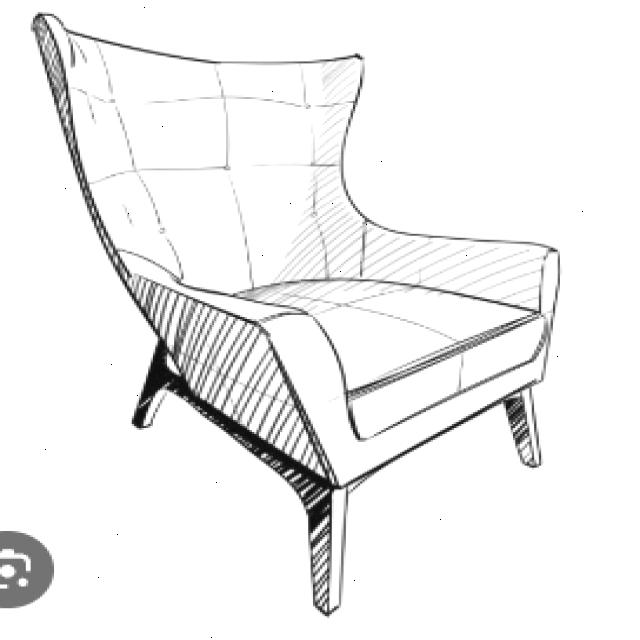Armrest: (148, 255, 381, 461), (359, 215, 579, 340)
Backrest: (72, 18, 336, 307)
Leg_Structure: (300, 495, 357, 633), (492, 384, 557, 492)
Seat: (224, 273, 548, 400)
Wing_Flange: (11, 9, 135, 246), (310, 40, 383, 220)
